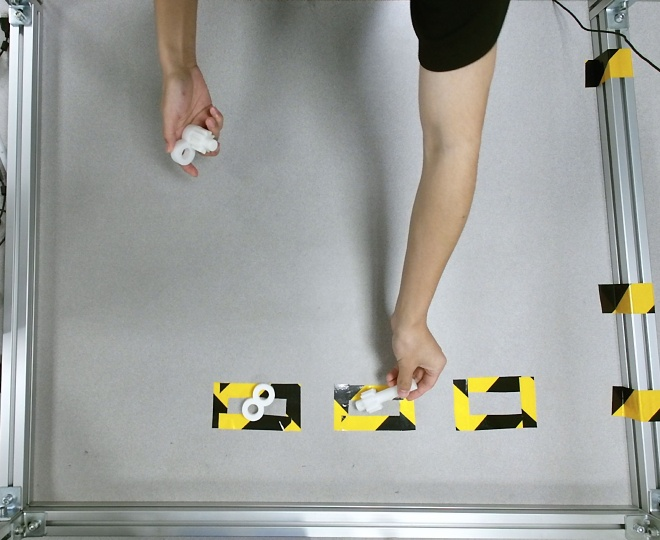stage_2: (171, 124, 218, 165)
